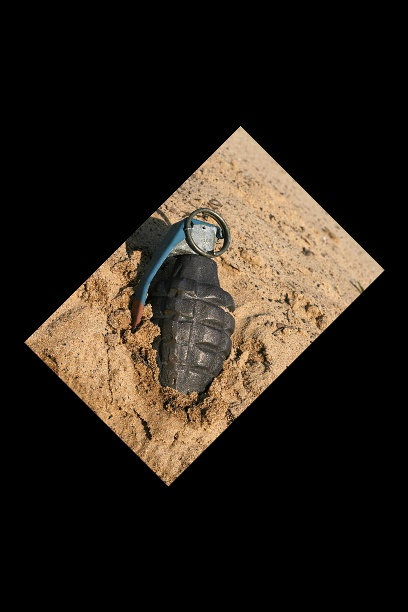e1: (129, 207, 235, 392)
